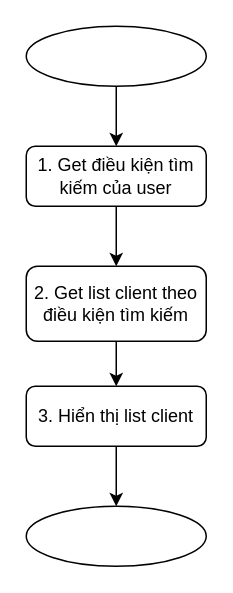
This 233x593 diagram has some shape labels left out. The centre of each missing label's shape, as x and y in pixels:
"Bắt đầu" belongs at (x=115, y=55).
"Kết thúc" belongs at (x=115, y=535).
